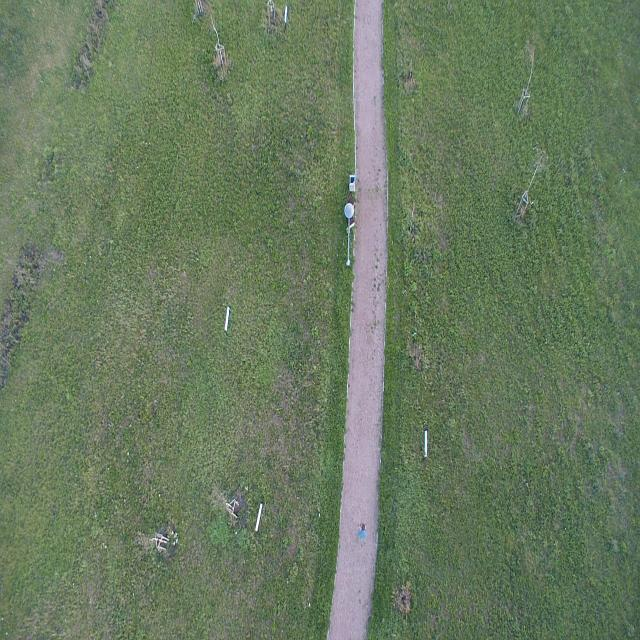p3rson: (358, 522, 367, 542)
